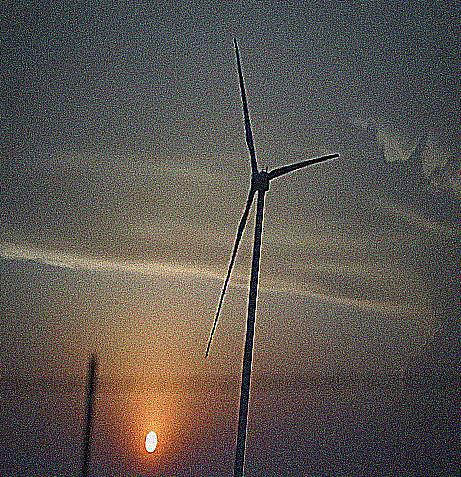wind turbine: (204, 37, 340, 477)
